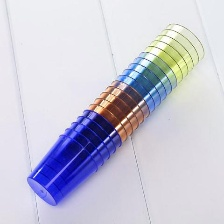glass: (23, 19, 206, 207)
